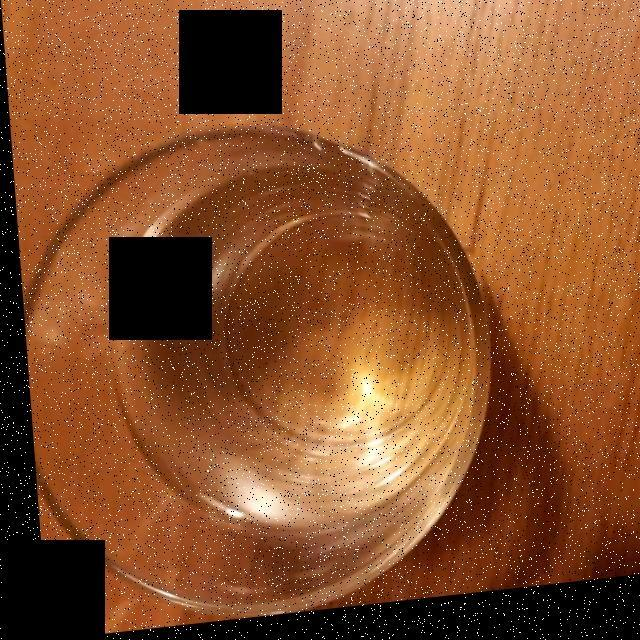water: (103, 172, 448, 527)
